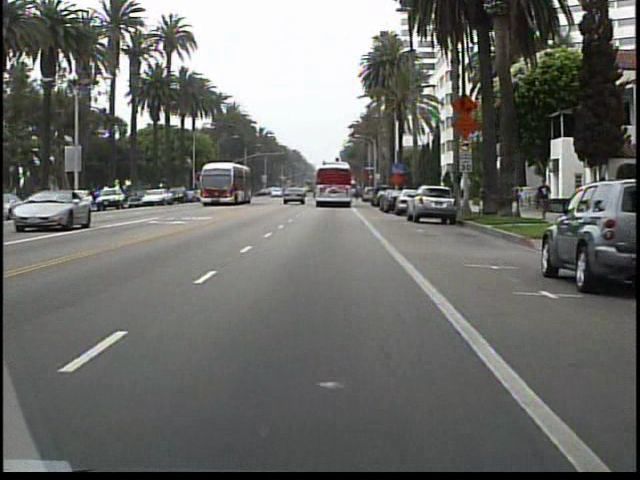person: (534, 173, 556, 225)
